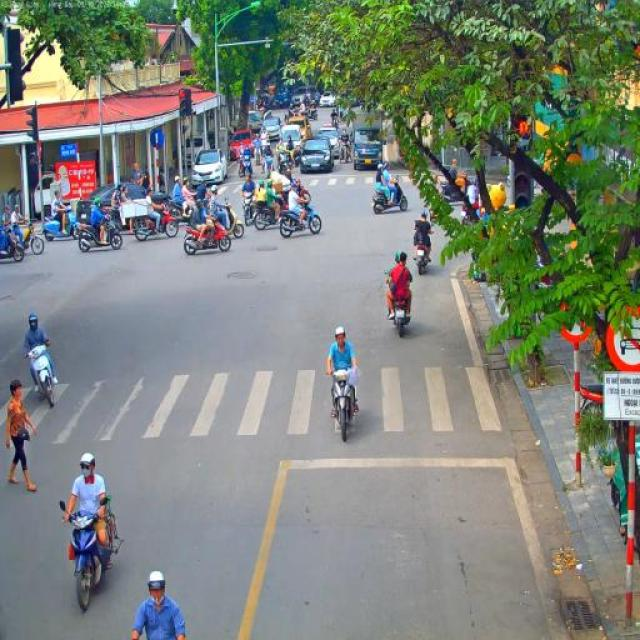car: (75, 182, 174, 222), (191, 148, 229, 186), (300, 136, 334, 174), (314, 126, 340, 160), (285, 116, 311, 146), (278, 125, 304, 154), (228, 130, 254, 158), (259, 116, 282, 144), (246, 111, 265, 133), (292, 86, 310, 105), (319, 92, 336, 108)
motorcycle: (58, 494, 124, 610), (324, 362, 360, 442), (182, 214, 232, 255), (42, 200, 92, 241), (384, 269, 414, 337), (78, 208, 124, 252), (26, 339, 55, 408), (279, 197, 322, 238), (134, 202, 178, 240), (210, 194, 245, 238), (8, 217, 44, 256), (371, 178, 408, 214), (437, 172, 468, 208), (254, 196, 286, 230), (0, 228, 25, 262), (580, 383, 604, 417), (414, 230, 432, 275), (239, 191, 261, 227), (159, 195, 185, 223), (294, 178, 311, 206), (240, 154, 254, 178), (462, 204, 476, 226), (285, 147, 300, 167), (262, 155, 274, 179), (235, 152, 246, 177), (276, 148, 286, 172), (338, 139, 348, 163), (254, 145, 262, 165), (330, 112, 339, 128), (312, 108, 318, 120)
truck: (352, 113, 386, 169), (274, 85, 292, 106)
